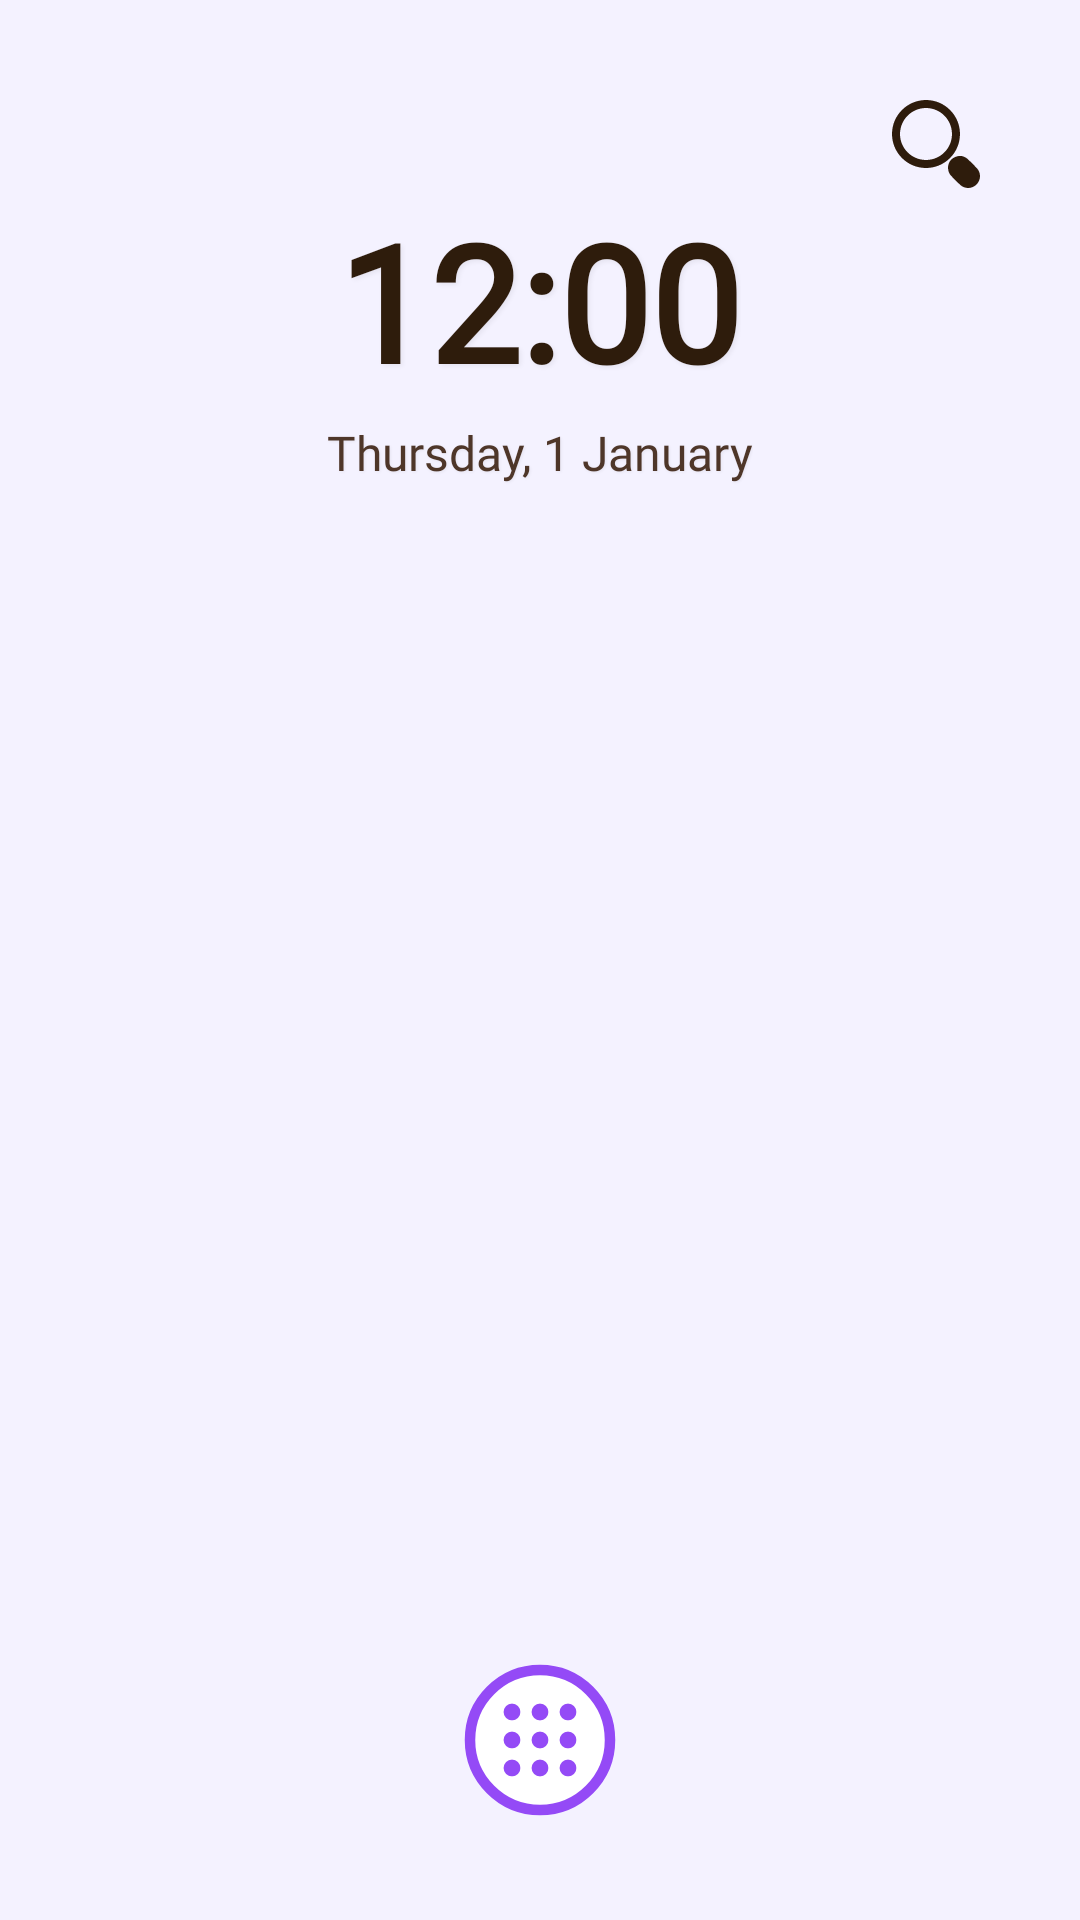

Screen size 1080*1920. Icon name, then its box in pixels as [x1=x1, y1=y1, x2=x2, y2=y2]:
drawer: [x1=464, y1=1664, x2=616, y2=1816]
search: [x1=892, y1=100, x2=980, y2=188]
